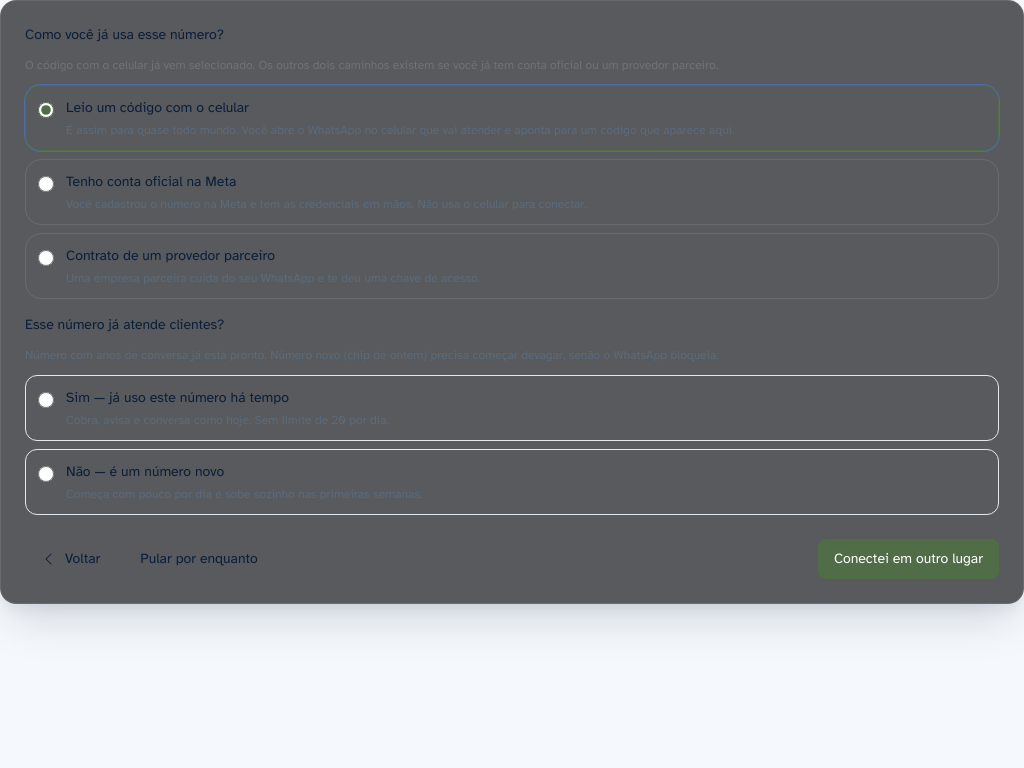
Scenario: o passo do telefone pergunta como a pessoa já usa o número › avisa que o servidor ainda não recebe pelo caminho oficial, ANTES do formulário
The width and height of the screenshot is (1024, 768).
Click the radio button with aria-label "Tenho conta oficial na Meta". click: x=46, y=184
box: 38,176 -> 54,192
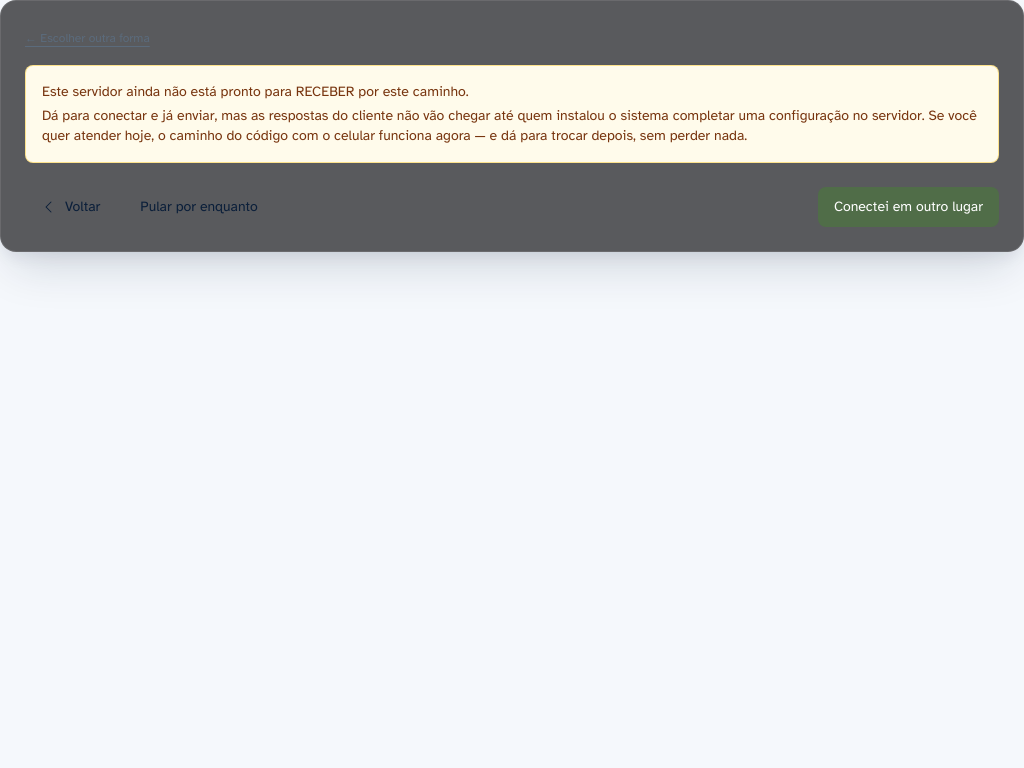
Check: the text "ainda não está pronto para RECEBER" is shown, box 42,83 -> 469,100
